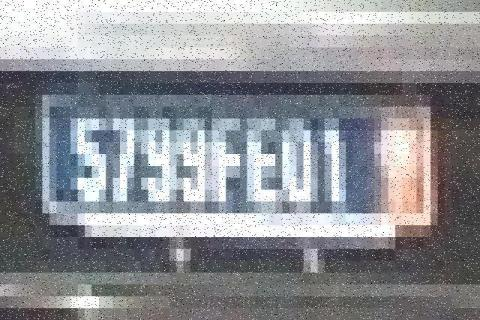LicensePlate: (28, 42, 444, 258)
